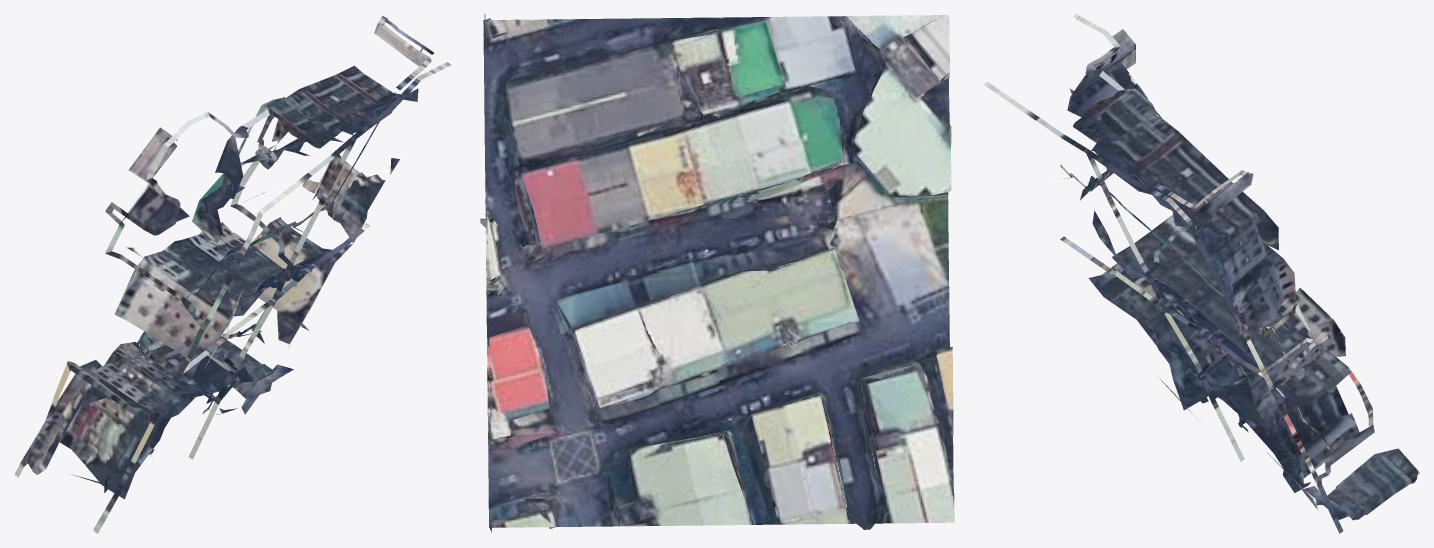
3 renders of one model, left to right at view 1: azimuth 30°, elevation 25°; view 2: azimuth 150°, elevation 25°; view 3: azimuth 270°, elevation 25°, orthographic. The views are drawn at different scales.
Size of the model in its own units: 84.7 by 78.35 by 78.02.
1 material, 1 textured.
